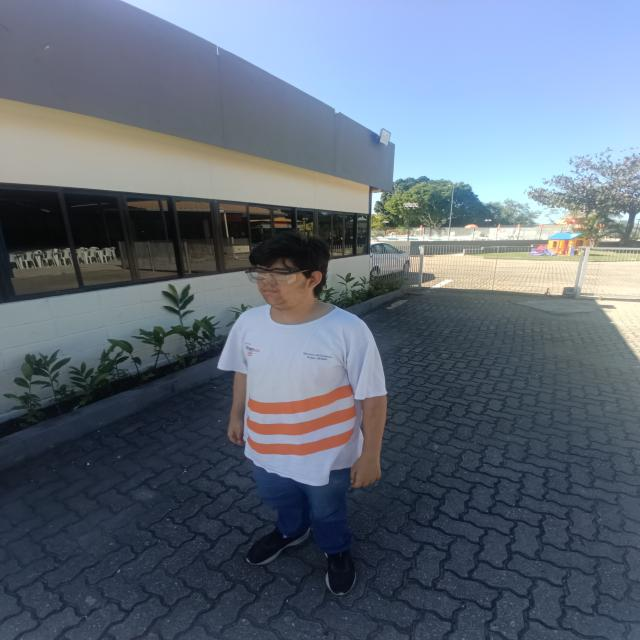oculos-epi: (245, 268, 311, 285)
